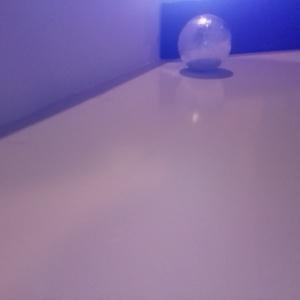alive_ball: (177, 14, 231, 71)
